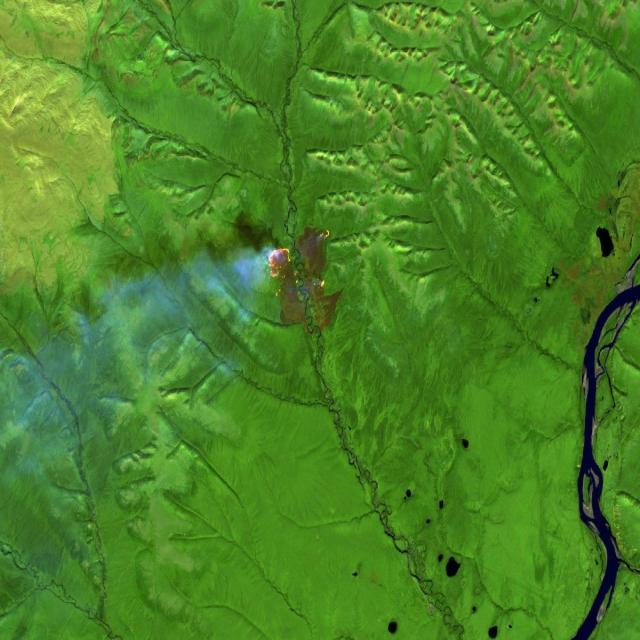fire: (261, 224, 334, 298)
